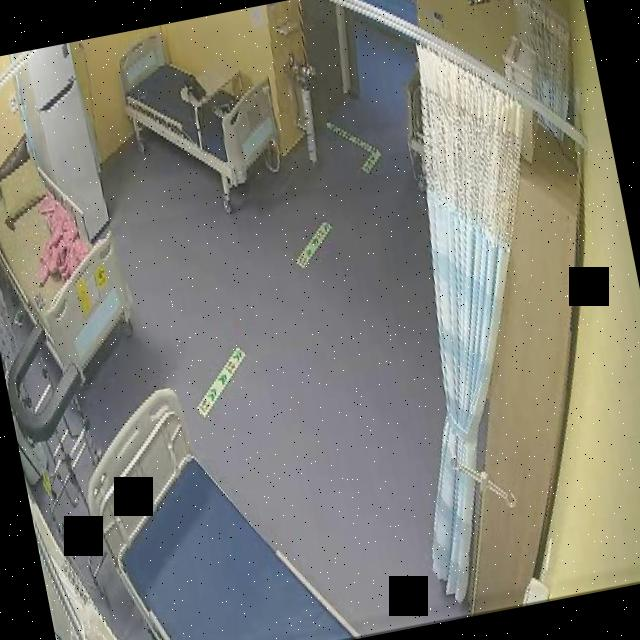bed: (65, 359, 355, 640), (0, 139, 144, 384), (114, 14, 288, 202)
walker: (0, 311, 115, 552)
